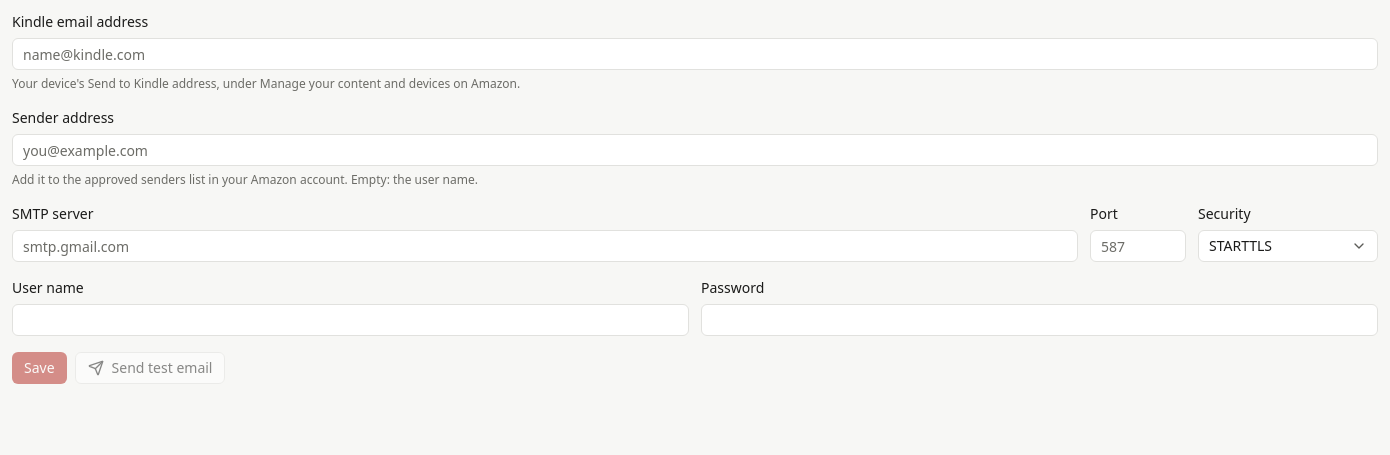
email settings › shows a locked keychain on Send test email, asking for the saved password
Type "smtp.example.test" into the field labelled "SMTP server" at (545, 246), box [12,230,1078,262]
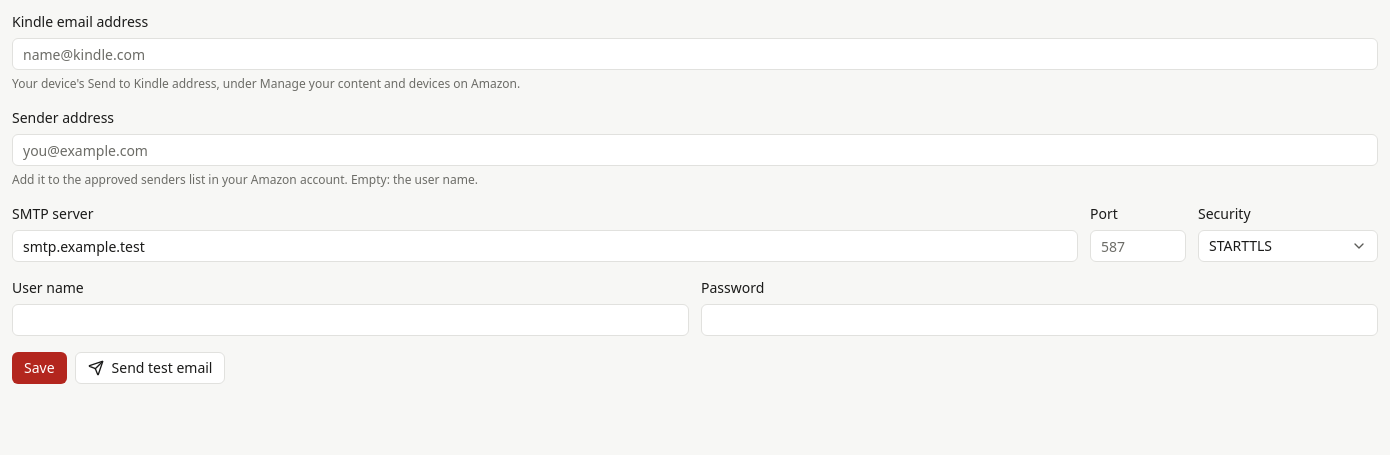
Click the button "Send test email" at (150, 368), box [75,352,226,384]
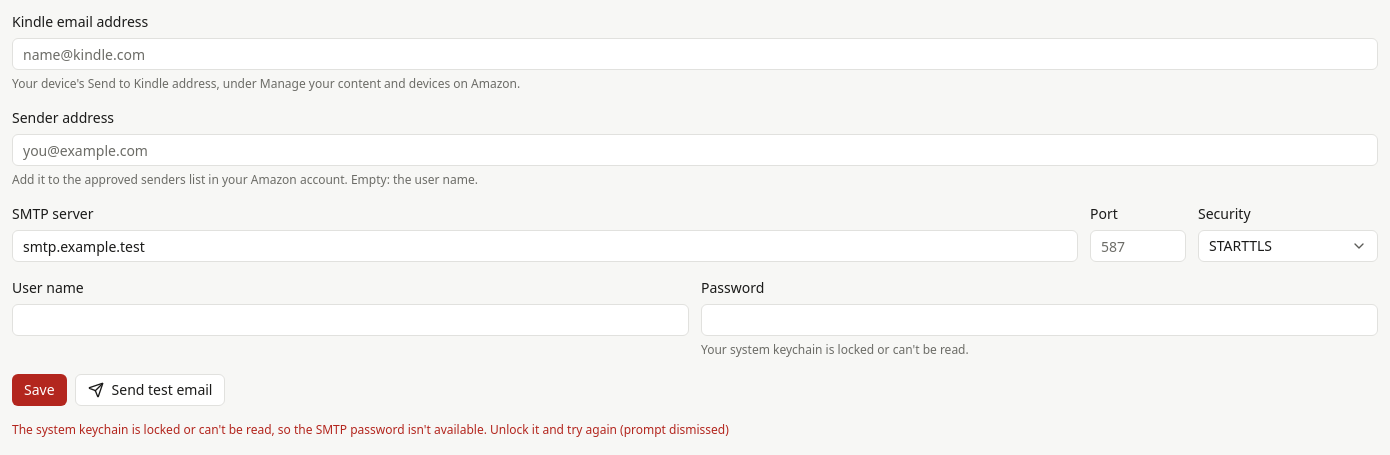
Check: the text "The system keychain is locked or can't be read, so the SMTP password isn't available. Unlock it and try again (prompt di" is shown, box [12,421,729,438]
